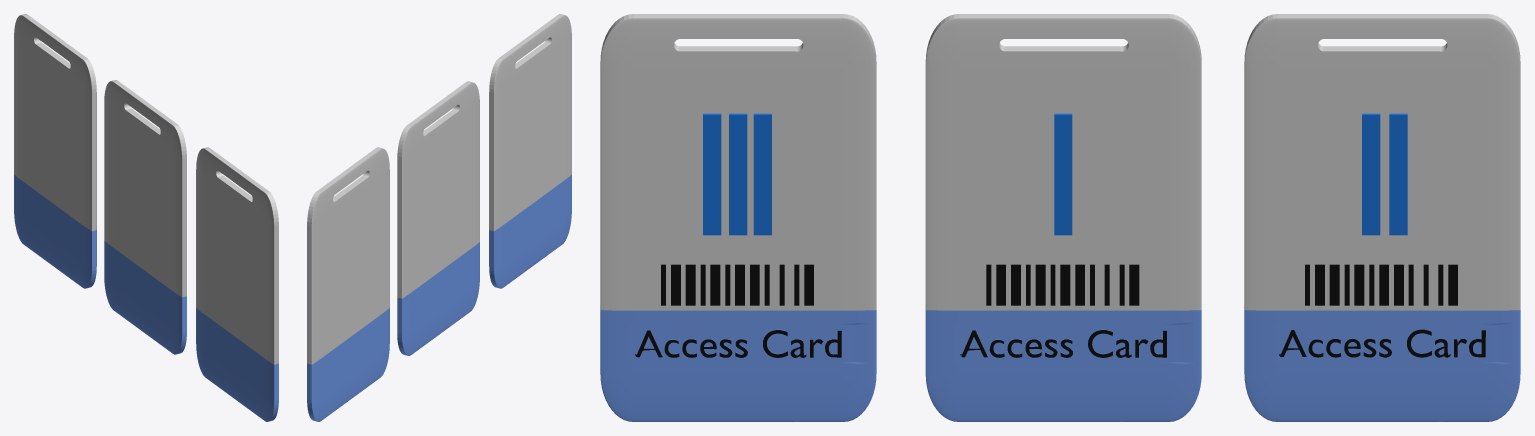
The model's file is KeyCard.glb.
3 views of the same model, side by side, from view 1: azimuth 30°, elevation 25°; view 2: azimuth 150°, elevation 25°; view 3: azimuth 270°, elevation 25° (orthographic). The views are drawn at different scales.
Visible parts, largest first — view 1: KeyCard.001, KeyCard.002, KeyCard; view 2: KeyCard.001, KeyCard.002, KeyCard; view 3: KeyCard.002, KeyCard, KeyCard.001.
Part boxes in pixels (box(x1,y1,x2,y2)): KeyCard.001: box(14, 14, 96, 288); KeyCard.002: box(196, 147, 278, 421); KeyCard: box(104, 80, 186, 354); KeyCard.001: box(307, 147, 389, 421); KeyCard.002: box(489, 14, 571, 288); KeyCard: box(397, 81, 479, 355); KeyCard.002: box(600, 14, 876, 421); KeyCard: box(925, 14, 1201, 421); KeyCard.001: box(1244, 14, 1520, 421).
Bounding box in the file's own units: 0.1789 × 4.61 × 9.51.
